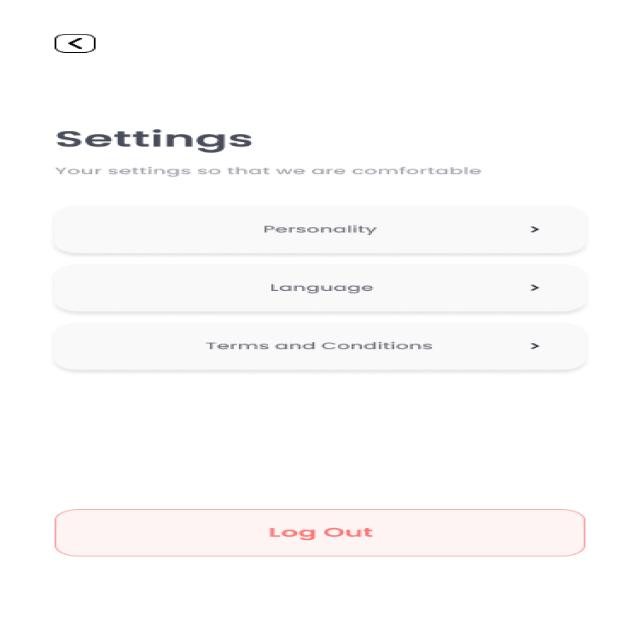button: (26, 495, 614, 575), (26, 191, 612, 260), (21, 316, 616, 378), (21, 262, 614, 318)
icon button: (32, 28, 127, 62)
spacer: (23, 385, 612, 489)
text: (20, 111, 602, 181)
